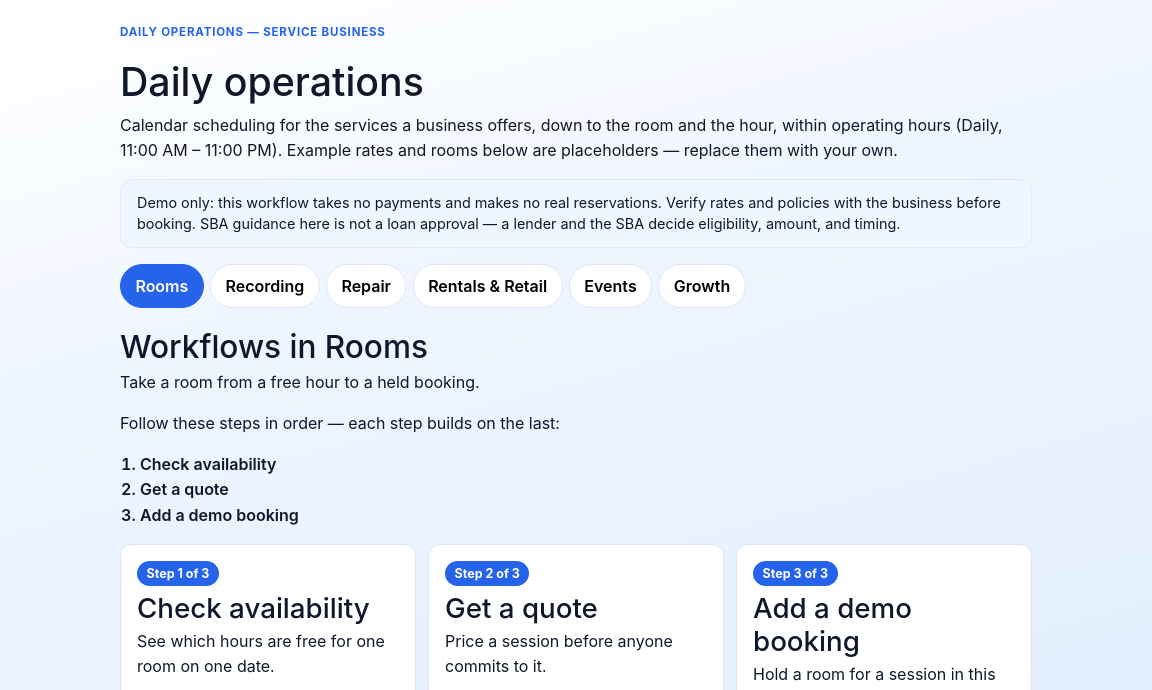
Scenario: ServiceDaily › rooms tab states the published cancellation, deposit, and solo-evening terms
Click the tab "Recording". click: [265, 286]
box: [210,264,320,308]
(page scrolled)
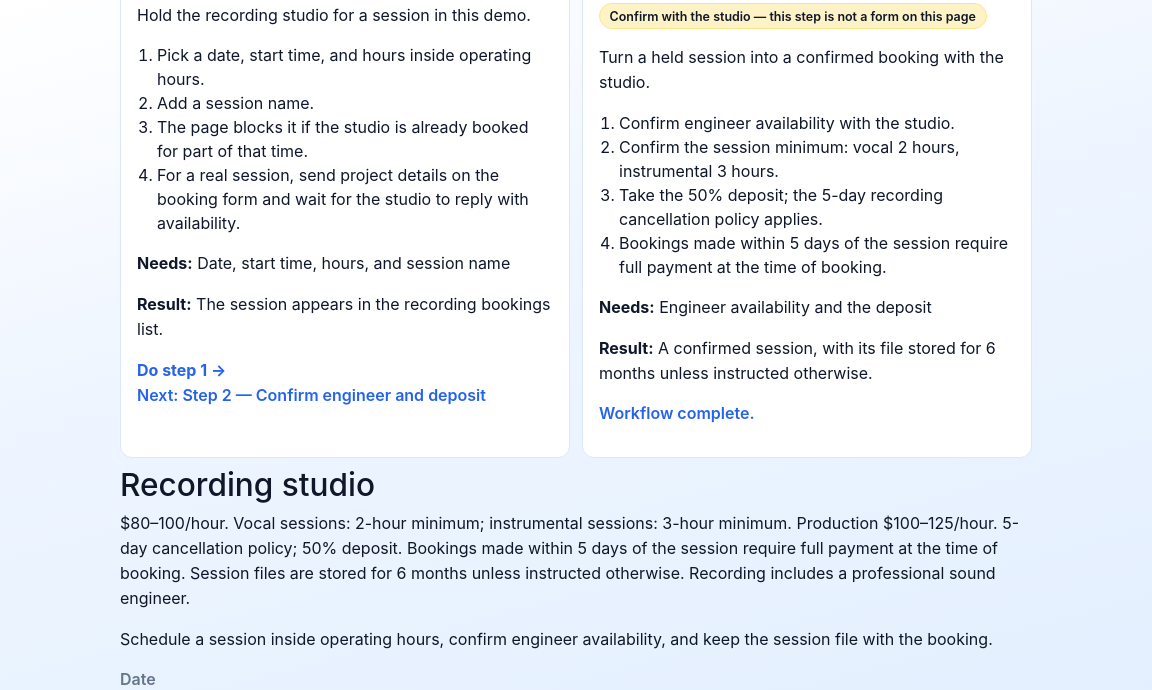
Check: the list item "Bookings made within 5 days of the session require full payment" is shown, box [619,233,1008,277]
Check: the text "stored for 6 months" is shown, box [599,338,996,382]
